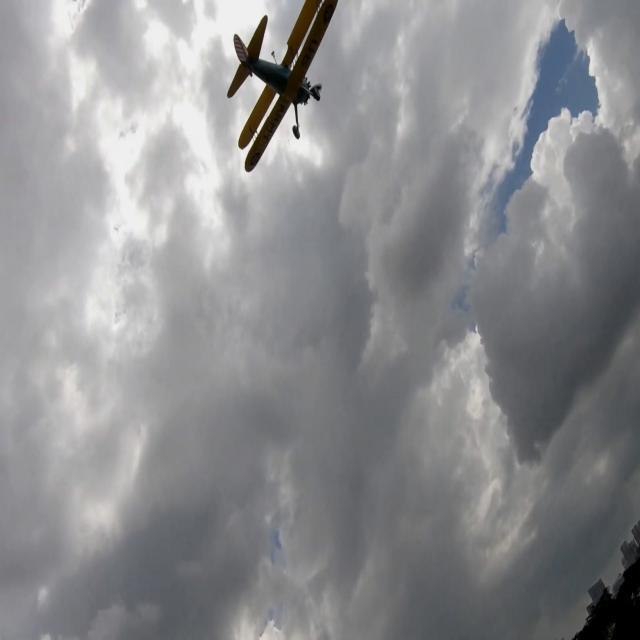iha: (194, 0, 370, 125)
